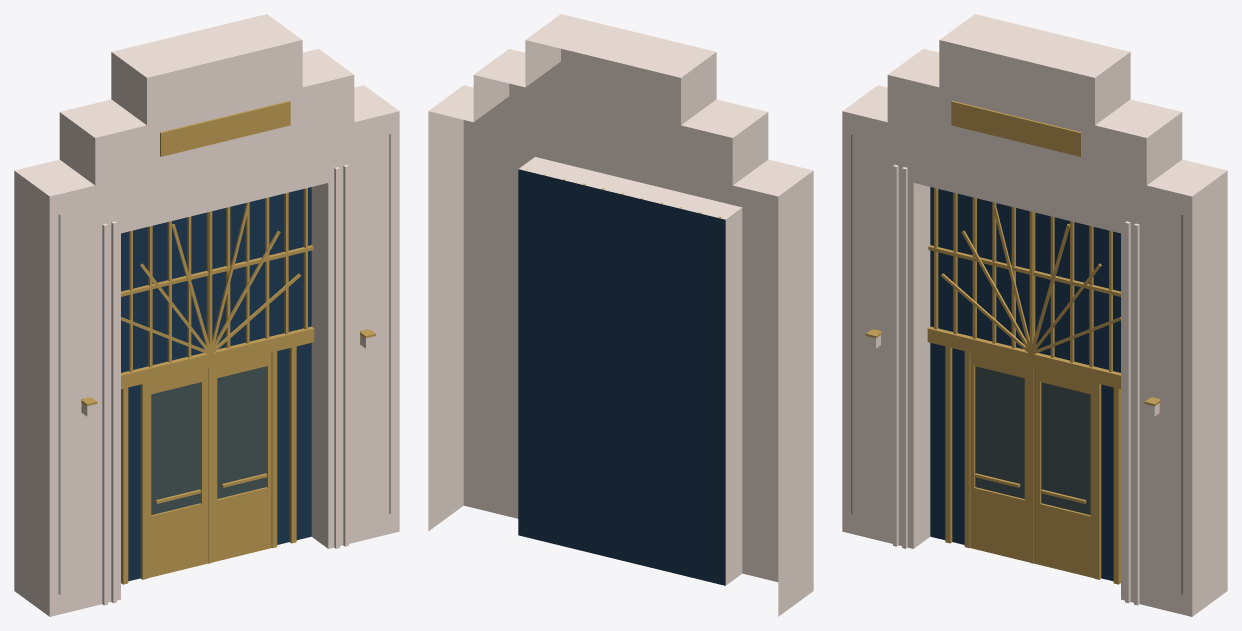
The model's file is entrance_close.fbx.
3 views of the same model, side by side, from view 1: azimuth 30°, elevation 25°; view 2: azimuth 150°, elevation 25°; view 3: azimuth 330°, elevation 25° (orthographic).
Visible parts, largest first — view 1: a2011/600/entrance_close; view 2: a2011/600/entrance_close; view 3: a2011/600/entrance_close.
Boxes of the visible parts, bbox=[...] form: a2011/600/entrance_close: bbox=[14, 14, 399, 616]; a2011/600/entrance_close: bbox=[428, 14, 813, 616]; a2011/600/entrance_close: bbox=[842, 14, 1227, 616].
Size of the model in its own units: 5.4 by 7.6 by 1.13.
